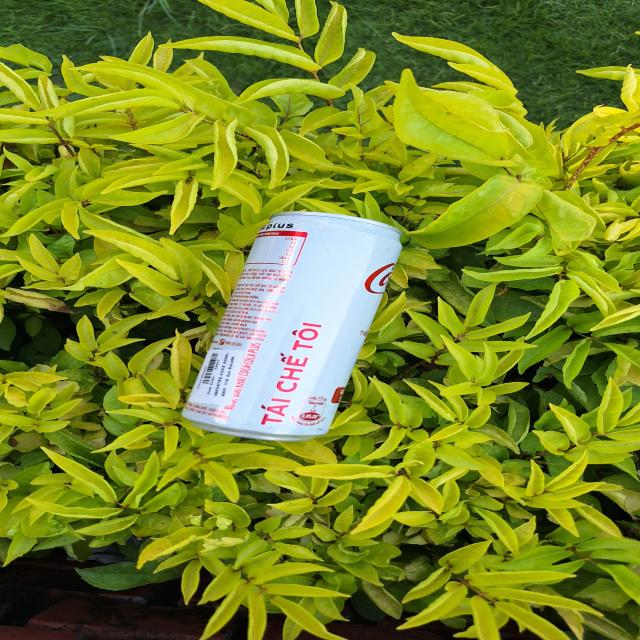Coca Cola Plus: (176, 212, 412, 436)
